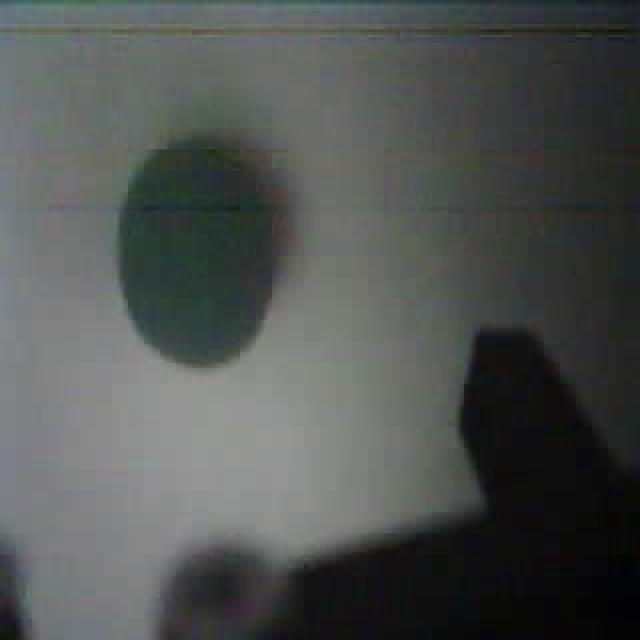green_ball: (114, 133, 290, 371)
